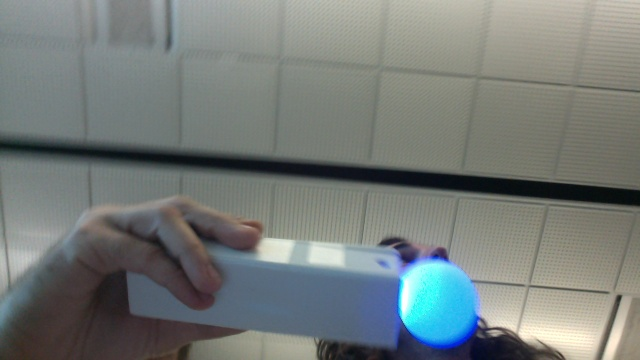wand: (399, 259, 478, 343)
